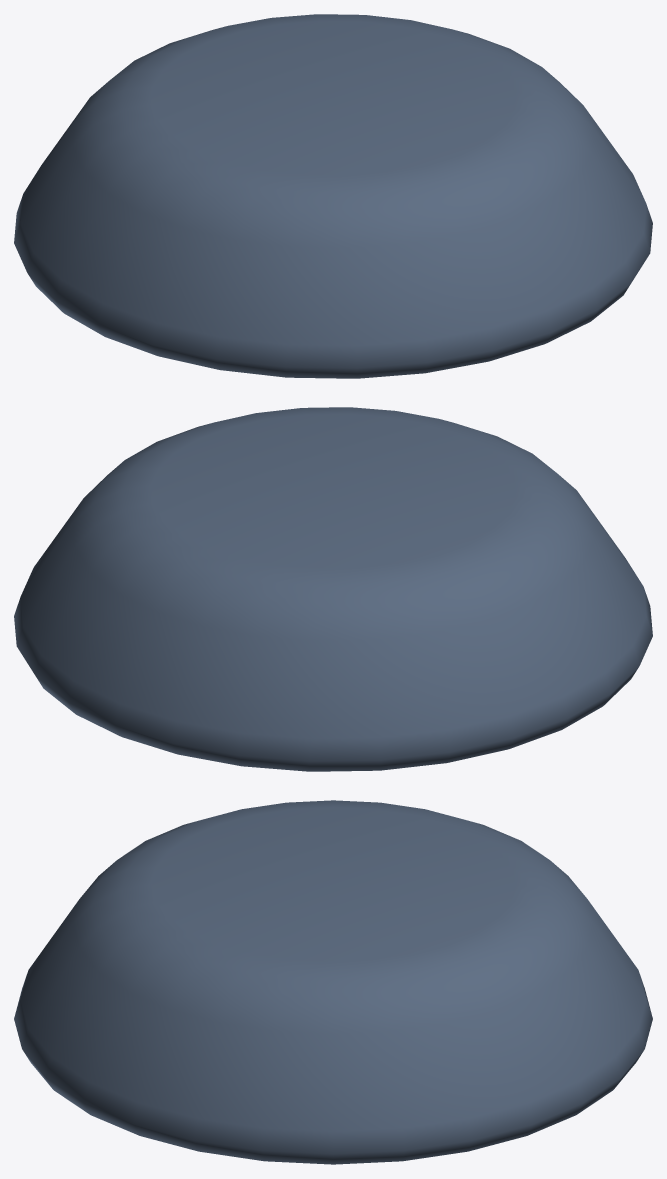
The model's file is Bottom_Skirt.fbx.
3 views of the same model, one above another, from view 1: azimuth 30°, elevation 25°; view 2: azimuth 150°, elevation 25°; view 3: azimuth 270°, elevation 25° (orthographic).
Visible parts, largest first — view 1: Skirt; view 2: Skirt; view 3: Skirt.
Part boxes in pixels (left/top/right/bottom): Skirt: left=14, top=14, right=652, bottom=378; Skirt: left=14, top=407, right=652, bottom=771; Skirt: left=14, top=800, right=652, bottom=1164.
Size of the model in its own units: 60.16 by 16 by 60.16.
